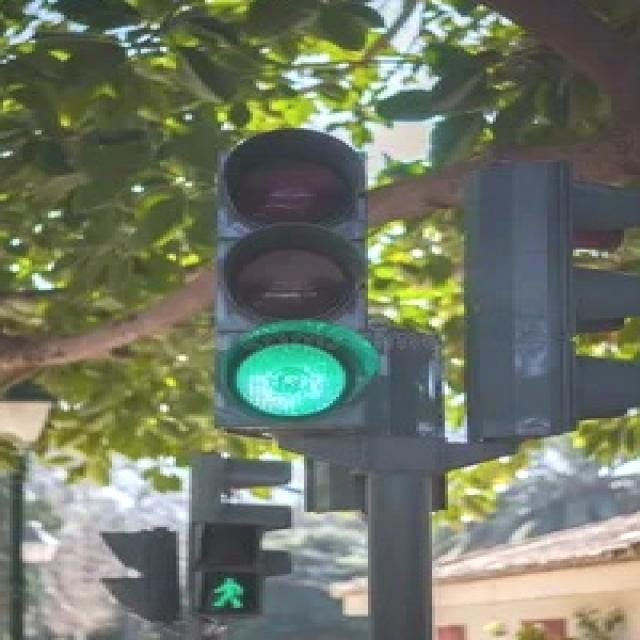yesil: (224, 130, 382, 430)
